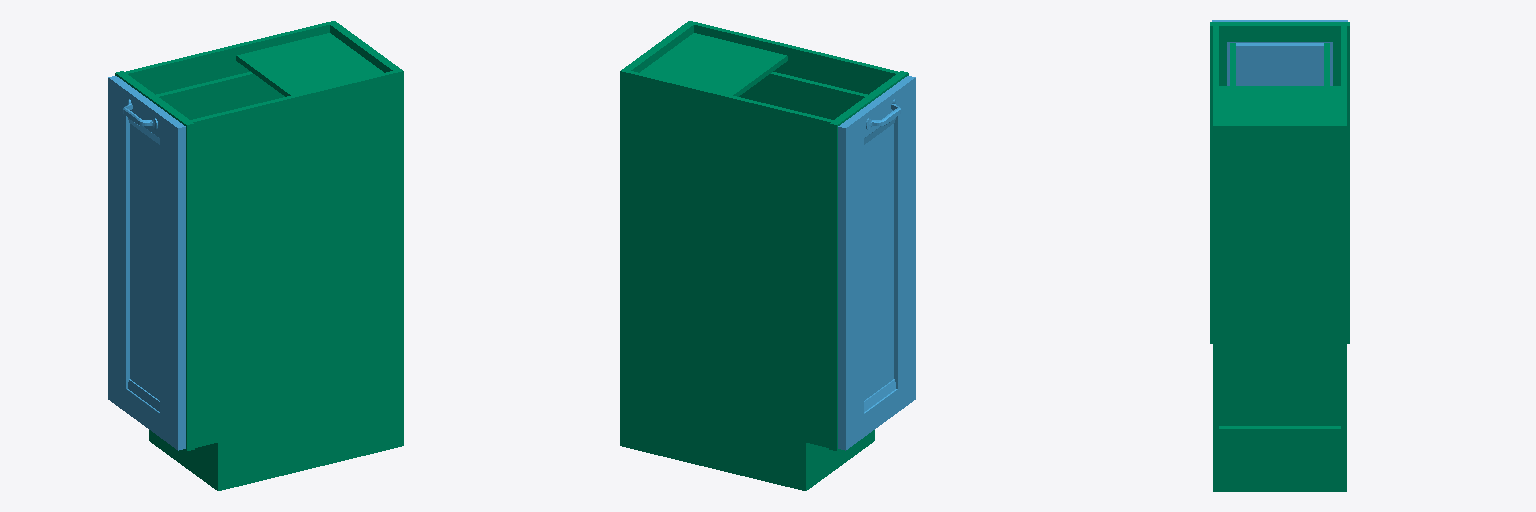
URDF robot description (partnet_2950d1baed4dbd78c59350d819542ec7):
<?xml version="1.0" ?>
<robot name="partnet_2950d1baed4dbd78c59350d819542ec7">
	<link name="base"/>
	<link name="link_0">
		<visual name="shelf-13">
			<origin xyz="0.025651794994062324 -0.06920929151178112 -0.4723959863185885"/>
			<geometry>
				<mesh filename="textured_objs/original-23.obj"/>
			</geometry>
		</visual>
		<visual name="shelf-14">
			<origin xyz="0.025651794994062324 -0.06920929151178112 -0.4723959863185885"/>
			<geometry>
				<mesh filename="textured_objs/original-34.obj"/>
			</geometry>
		</visual>
		<visual name="shelf-15">
			<origin xyz="0.025651794994062324 -0.06920929151178112 -0.4723959863185885"/>
			<geometry>
				<mesh filename="textured_objs/original-38.obj"/>
			</geometry>
		</visual>
		<visual name="cabinet_door_surface-9">
			<origin xyz="0.025651794994062324 -0.06920929151178112 -0.4723959863185885"/>
			<geometry>
				<mesh filename="textured_objs/original-29.obj"/>
			</geometry>
		</visual>
		<visual name="cabinet_door_surface-9">
			<origin xyz="0.025651794994062324 -0.06920929151178112 -0.4723959863185885"/>
			<geometry>
				<mesh filename="textured_objs/original-45.obj"/>
			</geometry>
		</visual>
		<visual name="cabinet_door_surface-9">
			<origin xyz="0.025651794994062324 -0.06920929151178112 -0.4723959863185885"/>
			<geometry>
				<mesh filename="textured_objs/original-42.obj"/>
			</geometry>
		</visual>
		<visual name="cabinet_door_surface-9">
			<origin xyz="0.025651794994062324 -0.06920929151178112 -0.4723959863185885"/>
			<geometry>
				<mesh filename="textured_objs/original-43.obj"/>
			</geometry>
		</visual>
		<visual name="cabinet_door_surface-9">
			<origin xyz="0.025651794994062324 -0.06920929151178112 -0.4723959863185885"/>
			<geometry>
				<mesh filename="textured_objs/original-48.obj"/>
			</geometry>
		</visual>
		<visual name="cabinet_door_surface-9">
			<origin xyz="0.025651794994062324 -0.06920929151178112 -0.4723959863185885"/>
			<geometry>
				<mesh filename="textured_objs/original-44.obj"/>
			</geometry>
		</visual>
		<visual name="cabinet_door_surface-9">
			<origin xyz="0.025651794994062324 -0.06920929151178112 -0.4723959863185885"/>
			<geometry>
				<mesh filename="textured_objs/original-47.obj"/>
			</geometry>
		</visual>
		<visual name="handle-10">
			<origin xyz="0.025651794994062324 -0.06920929151178112 -0.4723959863185885"/>
			<geometry>
				<mesh filename="textured_objs/original-49.obj"/>
			</geometry>
		</visual>
		<collision>
			<origin xyz="0.025651794994062324 -0.06920929151178112 -0.4723959863185885"/>
			<geometry>
				<mesh filename="textured_objs/original-23.obj"/>
			</geometry>
		</collision>
		<collision>
			<origin xyz="0.025651794994062324 -0.06920929151178112 -0.4723959863185885"/>
			<geometry>
				<mesh filename="textured_objs/original-34.obj"/>
			</geometry>
		</collision>
		<collision>
			<origin xyz="0.025651794994062324 -0.06920929151178112 -0.4723959863185885"/>
			<geometry>
				<mesh filename="textured_objs/original-38.obj"/>
			</geometry>
		</collision>
		<collision>
			<origin xyz="0.025651794994062324 -0.06920929151178112 -0.4723959863185885"/>
			<geometry>
				<mesh filename="textured_objs/original-29.obj"/>
			</geometry>
		</collision>
		<collision>
			<origin xyz="0.025651794994062324 -0.06920929151178112 -0.4723959863185885"/>
			<geometry>
				<mesh filename="textured_objs/original-45.obj"/>
			</geometry>
		</collision>
		<collision>
			<origin xyz="0.025651794994062324 -0.06920929151178112 -0.4723959863185885"/>
			<geometry>
				<mesh filename="textured_objs/original-42.obj"/>
			</geometry>
		</collision>
		<collision>
			<origin xyz="0.025651794994062324 -0.06920929151178112 -0.4723959863185885"/>
			<geometry>
				<mesh filename="textured_objs/original-43.obj"/>
			</geometry>
		</collision>
		<collision>
			<origin xyz="0.025651794994062324 -0.06920929151178112 -0.4723959863185885"/>
			<geometry>
				<mesh filename="textured_objs/original-48.obj"/>
			</geometry>
		</collision>
		<collision>
			<origin xyz="0.025651794994062324 -0.06920929151178112 -0.4723959863185885"/>
			<geometry>
				<mesh filename="textured_objs/original-44.obj"/>
			</geometry>
		</collision>
		<collision>
			<origin xyz="0.025651794994062324 -0.06920929151178112 -0.4723959863185885"/>
			<geometry>
				<mesh filename="textured_objs/original-47.obj"/>
			</geometry>
		</collision>
		<collision>
			<origin xyz="0.025651794994062324 -0.06920929151178112 -0.4723959863185885"/>
			<geometry>
				<mesh filename="textured_objs/original-49.obj"/>
			</geometry>
		</collision>
	</link>
	<joint name="joint_0" type="prismatic">
		<origin xyz="-0.025651794994062324 0.06920929151178112 0.4723959863185885"/>
		<axis xyz="0 0 1"/>
		<child link="link_0"/>
		<parent link="link_1"/>
		<limit lower="0" upper="0.7240000000000002"/>
	</joint>
	<link name="link_1">
		<visual name="vertical_side_panel-16">
			<origin xyz="0 0 0"/>
			<geometry>
				<mesh filename="textured_objs/original-15.obj"/>
			</geometry>
		</visual>
		<visual name="vertical_side_panel-16">
			<origin xyz="0 0 0"/>
			<geometry>
				<mesh filename="textured_objs/original-14.obj"/>
			</geometry>
		</visual>
		<visual name="vertical_side_panel-17">
			<origin xyz="0 0 0"/>
			<geometry>
				<mesh filename="textured_objs/original-11.obj"/>
			</geometry>
		</visual>
		<visual name="vertical_side_panel-17">
			<origin xyz="0 0 0"/>
			<geometry>
				<mesh filename="textured_objs/original-10.obj"/>
			</geometry>
		</visual>
		<visual name="back_panel-18">
			<origin xyz="0 0 0"/>
			<geometry>
				<mesh filename="textured_objs/original-30.obj"/>
			</geometry>
		</visual>
		<visual name="back_panel-18">
			<origin xyz="0 0 0"/>
			<geometry>
				<mesh filename="textured_objs/original-50.obj"/>
			</geometry>
		</visual>
		<visual name="back_panel-18">
			<origin xyz="0 0 0"/>
			<geometry>
				<mesh filename="textured_objs/original-5.obj"/>
			</geometry>
		</visual>
		<visual name="bottom_panel-19">
			<origin xyz="0 0 0"/>
			<geometry>
				<mesh filename="textured_objs/original-2.obj"/>
			</geometry>
		</visual>
		<visual name="top_panel-20">
			<origin xyz="0 0 0"/>
			<geometry>
				<mesh filename="textured_objs/original-19.obj"/>
			</geometry>
		</visual>
		<visual name="frame_vertical_bar-26">
			<origin xyz="0 0 0"/>
			<geometry>
				<mesh filename="textured_objs/original-7.obj"/>
			</geometry>
		</visual>
		<visual name="frame_vertical_bar-27">
			<origin xyz="0 0 0"/>
			<geometry>
				<mesh filename="textured_objs/original-26.obj"/>
			</geometry>
		</visual>
		<visual name="frame_vertical_bar-28">
			<origin xyz="0 0 0"/>
			<geometry>
				<mesh filename="textured_objs/original-25.obj"/>
			</geometry>
		</visual>
		<visual name="frame_vertical_bar-29">
			<origin xyz="0 0 0"/>
			<geometry>
				<mesh filename="textured_objs/original-24.obj"/>
			</geometry>
		</visual>
		<visual name="frame_vertical_bar-30">
			<origin xyz="0 0 0"/>
			<geometry>
				<mesh filename="textured_objs/original-3.obj"/>
			</geometry>
		</visual>
		<visual name="frame_vertical_bar-31">
			<origin xyz="0 0 0"/>
			<geometry>
				<mesh filename="textured_objs/original-27.obj"/>
			</geometry>
		</visual>
		<visual name="frame_horizontal_bar-32">
			<origin xyz="0 0 0"/>
			<geometry>
				<mesh filename="textured_objs/original-8.obj"/>
			</geometry>
		</visual>
		<visual name="frame_horizontal_bar-33">
			<origin xyz="0 0 0"/>
			<geometry>
				<mesh filename="textured_objs/original-6.obj"/>
			</geometry>
		</visual>
		<visual name="frame_horizontal_bar-34">
			<origin xyz="0 0 0"/>
			<geometry>
				<mesh filename="textured_objs/original-28.obj"/>
			</geometry>
		</visual>
		<visual name="frame_horizontal_bar-35">
			<origin xyz="0 0 0"/>
			<geometry>
				<mesh filename="textured_objs/original-32.obj"/>
			</geometry>
		</visual>
		<visual name="frame_horizontal_bar-36">
			<origin xyz="0 0 0"/>
			<geometry>
				<mesh filename="textured_objs/original-36.obj"/>
			</geometry>
		</visual>
		<visual name="frame_horizontal_bar-37">
			<origin xyz="0 0 0"/>
			<geometry>
				<mesh filename="textured_objs/original-22.obj"/>
			</geometry>
		</visual>
		<visual name="frame_horizontal_bar-38">
			<origin xyz="0 0 0"/>
			<geometry>
				<mesh filename="textured_objs/original-4.obj"/>
			</geometry>
		</visual>
		<visual name="frame_horizontal_bar-39">
			<origin xyz="0 0 0"/>
			<geometry>
				<mesh filename="textured_objs/original-39.obj"/>
			</geometry>
		</visual>
		<visual name="frame_horizontal_bar-40">
			<origin xyz="0 0 0"/>
			<geometry>
				<mesh filename="textured_objs/original-33.obj"/>
			</geometry>
		</visual>
		<visual name="frame_horizontal_bar-41">
			<origin xyz="0 0 0"/>
			<geometry>
				<mesh filename="textured_objs/original-37.obj"/>
			</geometry>
		</visual>
		<visual name="frame_horizontal_bar-42">
			<origin xyz="0 0 0"/>
			<geometry>
				<mesh filename="textured_objs/original-40.obj"/>
			</geometry>
		</visual>
		<visual name="base_side_panel-22">
			<origin xyz="0 0 0"/>
			<geometry>
				<mesh filename="textured_objs/original-18.obj"/>
			</geometry>
		</visual>
		<visual name="base_side_panel-23">
			<origin xyz="0 0 0"/>
			<geometry>
				<mesh filename="textured_objs/original-16.obj"/>
			</geometry>
		</visual>
		<visual name="base_side_panel-24">
			<origin xyz="0 0 0"/>
			<geometry>
				<mesh filename="textured_objs/original-17.obj"/>
			</geometry>
		</visual>
		<visual name="base_side_panel-25">
			<origin xyz="0 0 0"/>
			<geometry>
				<mesh filename="textured_objs/original-12.obj"/>
			</geometry>
		</visual>
		<collision>
			<origin xyz="0 0 0"/>
			<geometry>
				<mesh filename="textured_objs/original-15.obj"/>
			</geometry>
		</collision>
		<collision>
			<origin xyz="0 0 0"/>
			<geometry>
				<mesh filename="textured_objs/original-14.obj"/>
			</geometry>
		</collision>
		<collision>
			<origin xyz="0 0 0"/>
			<geometry>
				<mesh filename="textured_objs/original-11.obj"/>
			</geometry>
		</collision>
		<collision>
			<origin xyz="0 0 0"/>
			<geometry>
				<mesh filename="textured_objs/original-10.obj"/>
			</geometry>
		</collision>
		<collision>
			<origin xyz="0 0 0"/>
			<geometry>
				<mesh filename="textured_objs/original-30.obj"/>
			</geometry>
		</collision>
		<collision>
			<origin xyz="0 0 0"/>
			<geometry>
				<mesh filename="textured_objs/original-50.obj"/>
			</geometry>
		</collision>
		<collision>
			<origin xyz="0 0 0"/>
			<geometry>
				<mesh filename="textured_objs/original-5.obj"/>
			</geometry>
		</collision>
		<collision>
			<origin xyz="0 0 0"/>
			<geometry>
				<mesh filename="textured_objs/original-2.obj"/>
			</geometry>
		</collision>
		<collision>
			<origin xyz="0 0 0"/>
			<geometry>
				<mesh filename="textured_objs/original-19.obj"/>
			</geometry>
		</collision>
		<collision>
			<origin xyz="0 0 0"/>
			<geometry>
				<mesh filename="textured_objs/original-7.obj"/>
			</geometry>
		</collision>
		<collision>
			<origin xyz="0 0 0"/>
			<geometry>
				<mesh filename="textured_objs/original-26.obj"/>
			</geometry>
		</collision>
		<collision>
			<origin xyz="0 0 0"/>
			<geometry>
				<mesh filename="textured_objs/original-25.obj"/>
			</geometry>
		</collision>
		<collision>
			<origin xyz="0 0 0"/>
			<geometry>
				<mesh filename="textured_objs/original-24.obj"/>
			</geometry>
		</collision>
		<collision>
			<origin xyz="0 0 0"/>
			<geometry>
				<mesh filename="textured_objs/original-3.obj"/>
			</geometry>
		</collision>
		<collision>
			<origin xyz="0 0 0"/>
			<geometry>
				<mesh filename="textured_objs/original-27.obj"/>
			</geometry>
		</collision>
		<collision>
			<origin xyz="0 0 0"/>
			<geometry>
				<mesh filename="textured_objs/original-8.obj"/>
			</geometry>
		</collision>
		<collision>
			<origin xyz="0 0 0"/>
			<geometry>
				<mesh filename="textured_objs/original-6.obj"/>
			</geometry>
		</collision>
		<collision>
			<origin xyz="0 0 0"/>
			<geometry>
				<mesh filename="textured_objs/original-28.obj"/>
			</geometry>
		</collision>
		<collision>
			<origin xyz="0 0 0"/>
			<geometry>
				<mesh filename="textured_objs/original-32.obj"/>
			</geometry>
		</collision>
		<collision>
			<origin xyz="0 0 0"/>
			<geometry>
				<mesh filename="textured_objs/original-36.obj"/>
			</geometry>
		</collision>
		<collision>
			<origin xyz="0 0 0"/>
			<geometry>
				<mesh filename="textured_objs/original-22.obj"/>
			</geometry>
		</collision>
		<collision>
			<origin xyz="0 0 0"/>
			<geometry>
				<mesh filename="textured_objs/original-4.obj"/>
			</geometry>
		</collision>
		<collision>
			<origin xyz="0 0 0"/>
			<geometry>
				<mesh filename="textured_objs/original-39.obj"/>
			</geometry>
		</collision>
		<collision>
			<origin xyz="0 0 0"/>
			<geometry>
				<mesh filename="textured_objs/original-33.obj"/>
			</geometry>
		</collision>
		<collision>
			<origin xyz="0 0 0"/>
			<geometry>
				<mesh filename="textured_objs/original-37.obj"/>
			</geometry>
		</collision>
		<collision>
			<origin xyz="0 0 0"/>
			<geometry>
				<mesh filename="textured_objs/original-40.obj"/>
			</geometry>
		</collision>
		<collision>
			<origin xyz="0 0 0"/>
			<geometry>
				<mesh filename="textured_objs/original-18.obj"/>
			</geometry>
		</collision>
		<collision>
			<origin xyz="0 0 0"/>
			<geometry>
				<mesh filename="textured_objs/original-16.obj"/>
			</geometry>
		</collision>
		<collision>
			<origin xyz="0 0 0"/>
			<geometry>
				<mesh filename="textured_objs/original-17.obj"/>
			</geometry>
		</collision>
		<collision>
			<origin xyz="0 0 0"/>
			<geometry>
				<mesh filename="textured_objs/original-12.obj"/>
			</geometry>
		</collision>
	</link>
	<joint name="joint_1" type="fixed">
		<origin rpy="1.570796326794897 0 -1.570796326794897" xyz="0 0 0"/>
		<child link="link_1"/>
		<parent link="base"/>
	</joint>
</robot>

--- Facts derived from the render (not from the file) ---
3 views of the same robot in one strip: view 1: azimuth 30°, elevation 25°; view 2: azimuth 150°, elevation 25°; view 3: azimuth 270°, elevation 25° (orthographic).
Model partnet_2950d1baed4dbd78c59350d819542ec7 with 3 links and 2 joints (1 prismatic, 1 fixed), rooted at base, posed all joints at 0.
Visible links, largest first — view 1: link_1, link_0; view 2: link_1, link_0; view 3: link_1, link_0.
Boxes of the visible links, x1,y1,x2,y2 form: link_1: (115, 21, 403, 490); link_0: (108, 76, 185, 450); link_1: (620, 21, 908, 490); link_0: (838, 76, 915, 450); link_1: (1210, 22, 1349, 491); link_0: (1212, 20, 1347, 85).
Bounding box of the posed robot: 1.06 × 0.5533 × 1.59 m (x, y, z).
Meshes: 41 distinct files referenced, 41 mesh visuals loaded (41 OBJ).